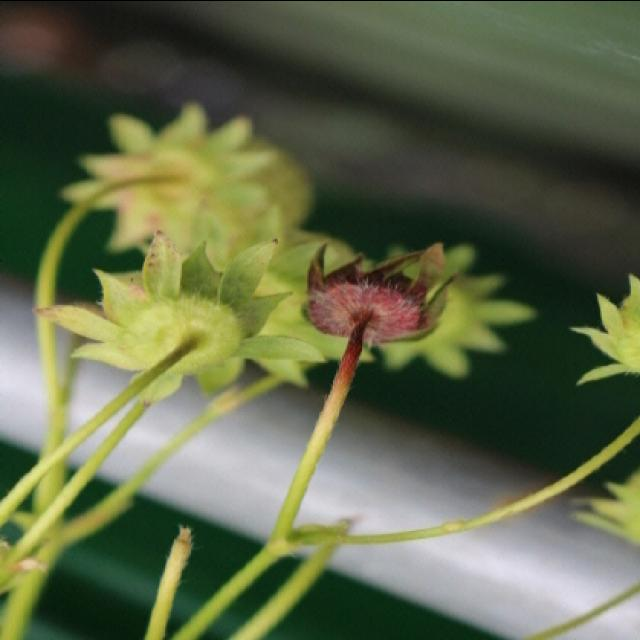Gray Mold: (305, 239, 461, 375)
